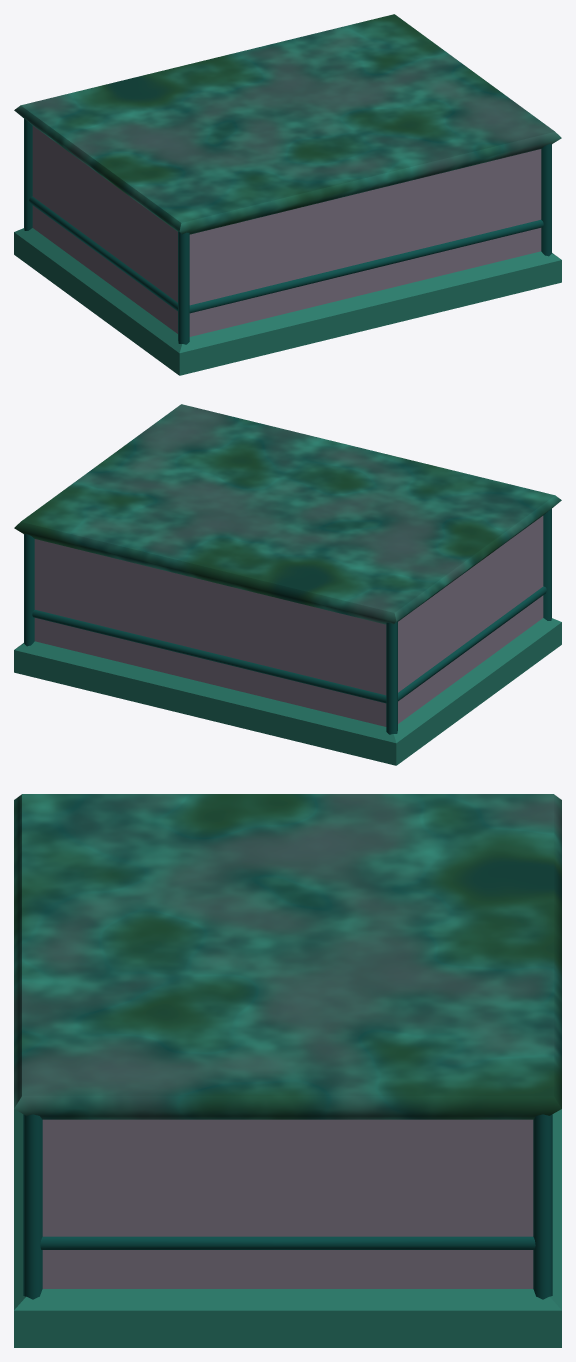
File: EM_112_counter_rectangular.glb
3 views of the same model, one above another, from view 1: azimuth 30°, elevation 25°; view 2: azimuth 150°, elevation 25°; view 3: azimuth 270°, elevation 25° (orthographic). The views are drawn at different scales.
Visible parts, largest first — view 1: counter, supports_horizontal, supports_vertical; view 2: counter, supports_horizontal, supports_vertical; view 3: counter, supports_vertical, supports_horizontal.
Boxes of the visible parts, x1,y1,x2,y2 form: counter: (14, 14, 561, 375); supports_horizontal: (29, 196, 543, 313); supports_vertical: (24, 118, 551, 344); counter: (14, 404, 561, 765); supports_horizontal: (32, 586, 546, 703); supports_vertical: (24, 508, 551, 734); counter: (14, 794, 561, 1347); supports_vertical: (23, 1114, 552, 1299); supports_horizontal: (40, 1236, 535, 1249).
Size of the model in its own units: 3 by 1.12 by 2.25.
4 materials, 1 textured.
